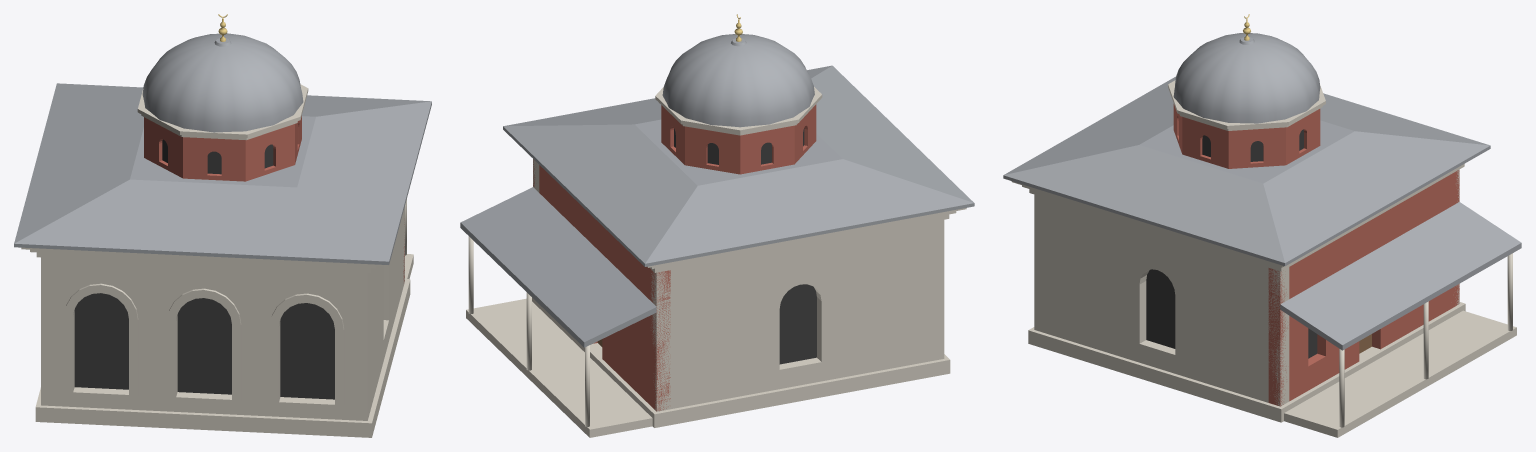
The model's file is hagia-sophia-muvakkithane.glb.
The picture shows the model from 3 angles, left to right: view 1: azimuth 30°, elevation 25°; view 2: azimuth 150°, elevation 25°; view 3: azimuth 270°, elevation 25°; orthographic projection. The views are drawn at different scales.
Visible parts, largest first — view 1: hagia-sophia-muvakkithane; view 2: hagia-sophia-muvakkithane; view 3: hagia-sophia-muvakkithane.
Boxes of the visible parts, x1=… form: hagia-sophia-muvakkithane: x1=14, y1=14, x2=431, y2=437; hagia-sophia-muvakkithane: x1=460, y1=14, x2=974, y2=437; hagia-sophia-muvakkithane: x1=1003, y1=14, x2=1521, y2=437.
Bounding box in the file's own units: 16.88 × 11.72 × 17.46.
